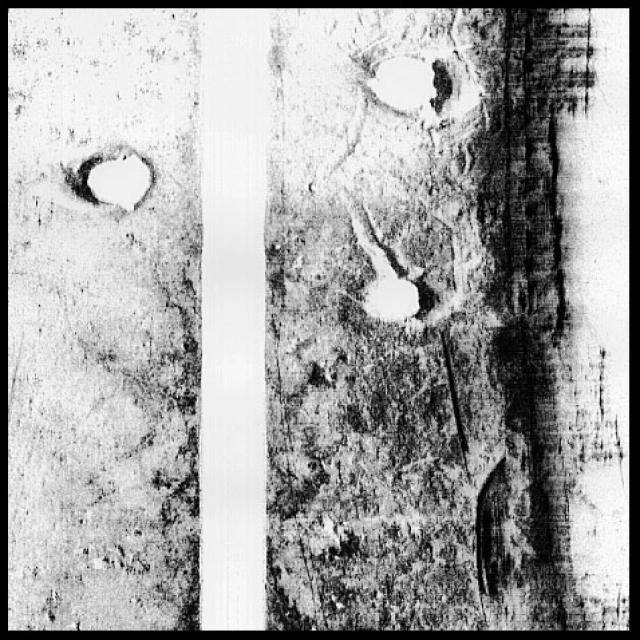other: (334, 189, 444, 333), (55, 132, 167, 229)
